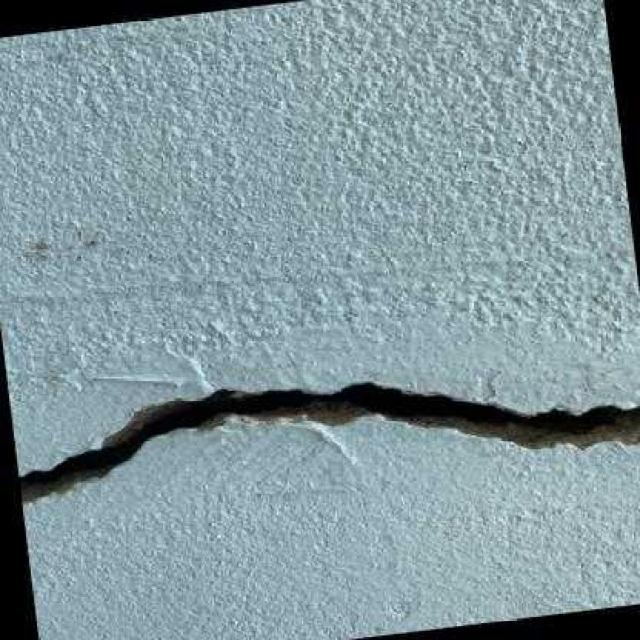D00: (17, 380, 640, 506)
